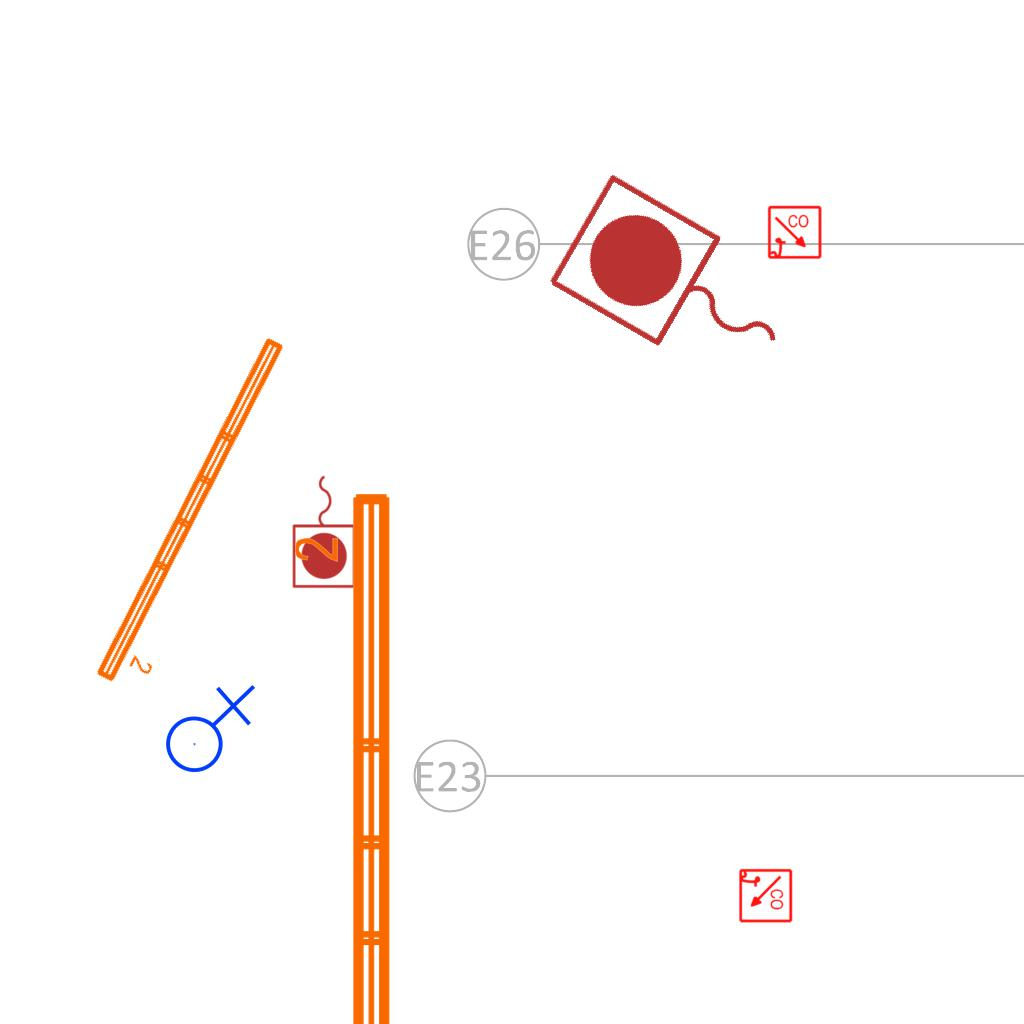Ambulanz_Pendelleuchte_LED: (88, 329, 315, 701), (290, 485, 402, 1024)
Elektroanschluss_allgemein_230V_Geraeteanschlussdose_230V: (157, 680, 256, 774)
ROA_Rauchmelder_optisch_mit_Signalgeber_(Sockelsirene): (767, 205, 823, 261), (737, 868, 793, 924)
Zugtaster: (536, 163, 820, 411), (289, 470, 361, 592)
